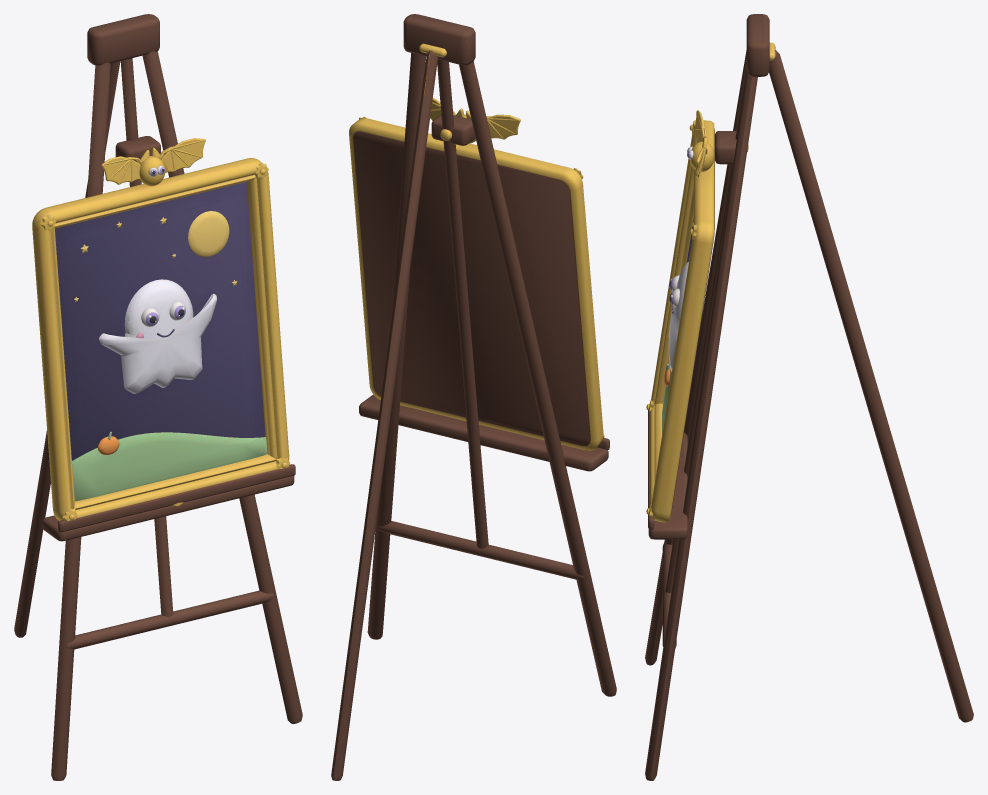
Rendered from cuadro_encantado.glb.
3 renders of one model, left to right at view 1: azimuth 30°, elevation 25°; view 2: azimuth 150°, elevation 25°; view 3: azimuth 270°, elevation 25°, orthographic.
Visible parts, largest first — view 1: haunted-portrait_back_leg; view 2: haunted-portrait_back_leg; view 3: haunted-portrait_back_leg.
Part boxes in pixels (x1=…): haunted-portrait_back_leg: x1=14, y1=14, x2=302, y2=780; haunted-portrait_back_leg: x1=331, y1=14, x2=616, y2=780; haunted-portrait_back_leg: x1=645, y1=14, x2=973, y2=780.
Bounding box in the file's own units: 0.634 × 1.66 × 0.7146.
2 materials, 2 textured.
